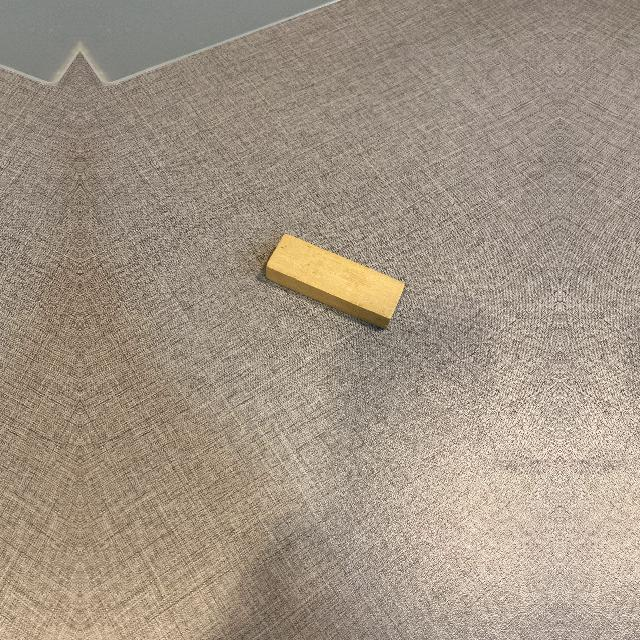jenga: (264, 235, 405, 332)
